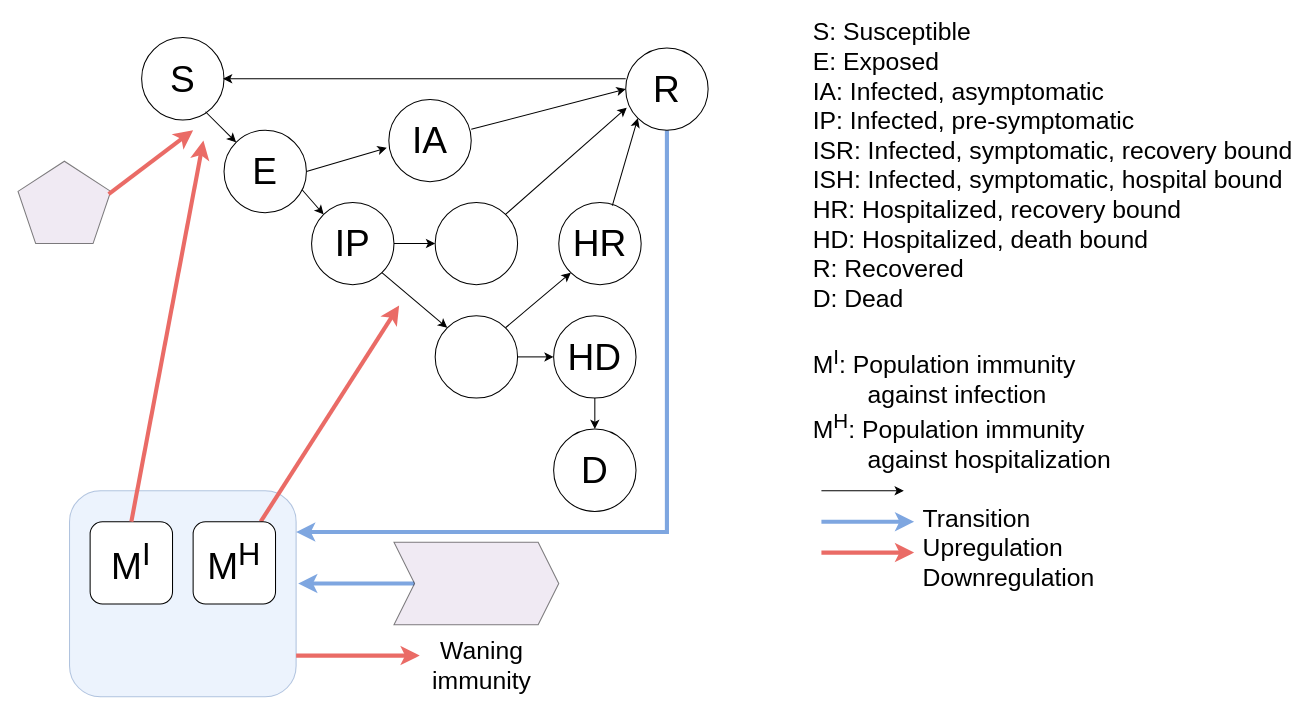
The diagram is 1311 pixels wide and 715 high, and some of its shapes have lost their labels. The box of each missing label's shape, as (x1, y1, x2, y2) in pixels:
ISH: (434, 315, 518, 398)
ISR: (434, 201, 518, 285)
NPIs: (17, 160, 111, 244)
Population-level immunity: (68, 490, 296, 697)
Vaccines: (393, 541, 559, 625)
